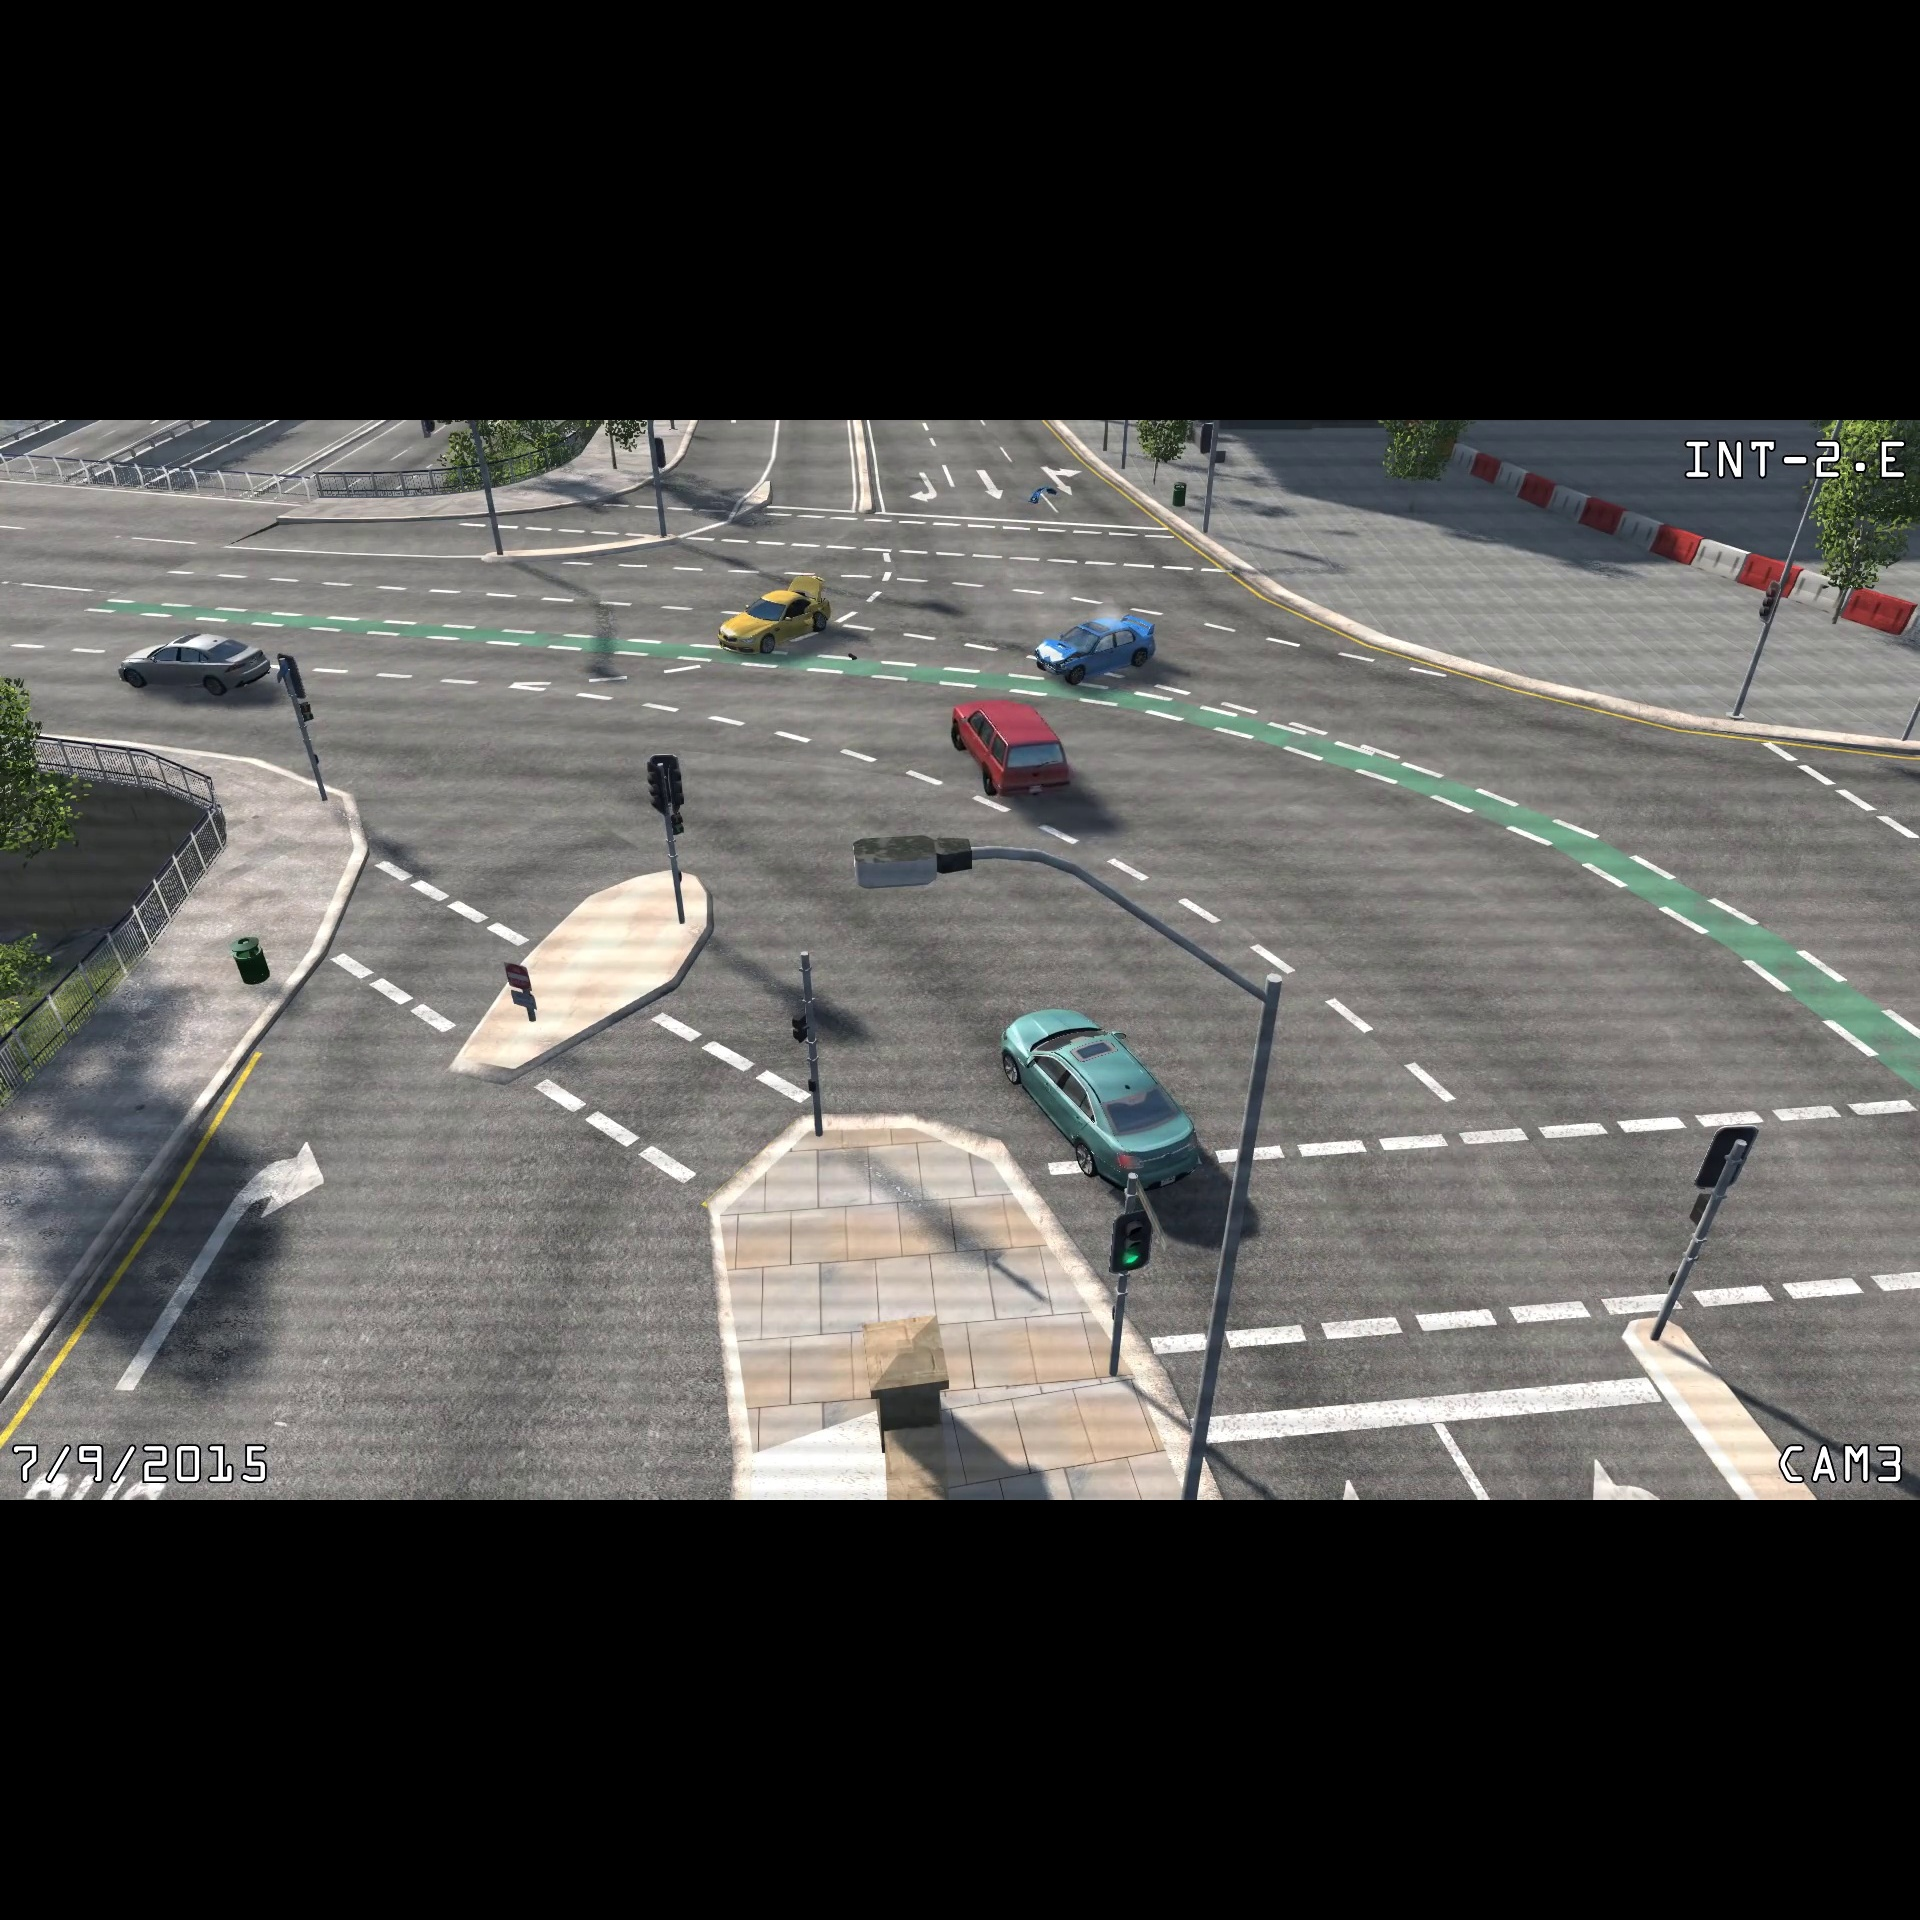vehicle: (992, 995, 1206, 1196), (948, 687, 1080, 804), (113, 624, 285, 702), (716, 568, 833, 659), (1030, 607, 1160, 687)
